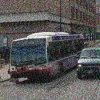buses: (10, 32, 85, 83)
